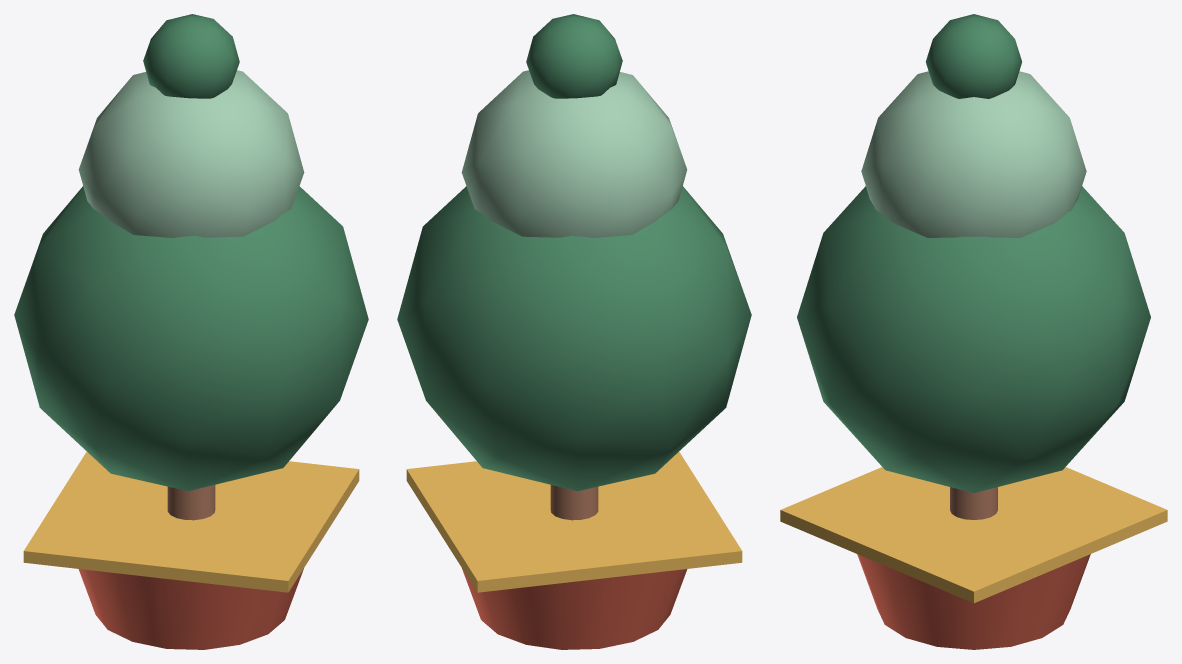
The model's file is deco_topiary.glb.
The picture shows the model from 3 angles, left to right: view 1: azimuth 30°, elevation 25°; view 2: azimuth 150°, elevation 25°; view 3: azimuth 270°, elevation 25°; orthographic projection.
Visible parts, largest first — view 1: deco_topiary; view 2: deco_topiary; view 3: deco_topiary.
Part boxes in pixels (x1,y1,x2,y2): deco_topiary: [14, 14, 368, 649]; deco_topiary: [397, 14, 751, 649]; deco_topiary: [780, 14, 1167, 649].
Bounding box in the file's own units: 2.4 × 4.05 × 2.4.
